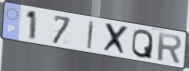1: (26, 10, 39, 41)
7: (52, 14, 73, 45)
I: (86, 20, 96, 51)
Q: (130, 28, 154, 60)
R: (156, 31, 183, 65)
X: (102, 21, 131, 57)
